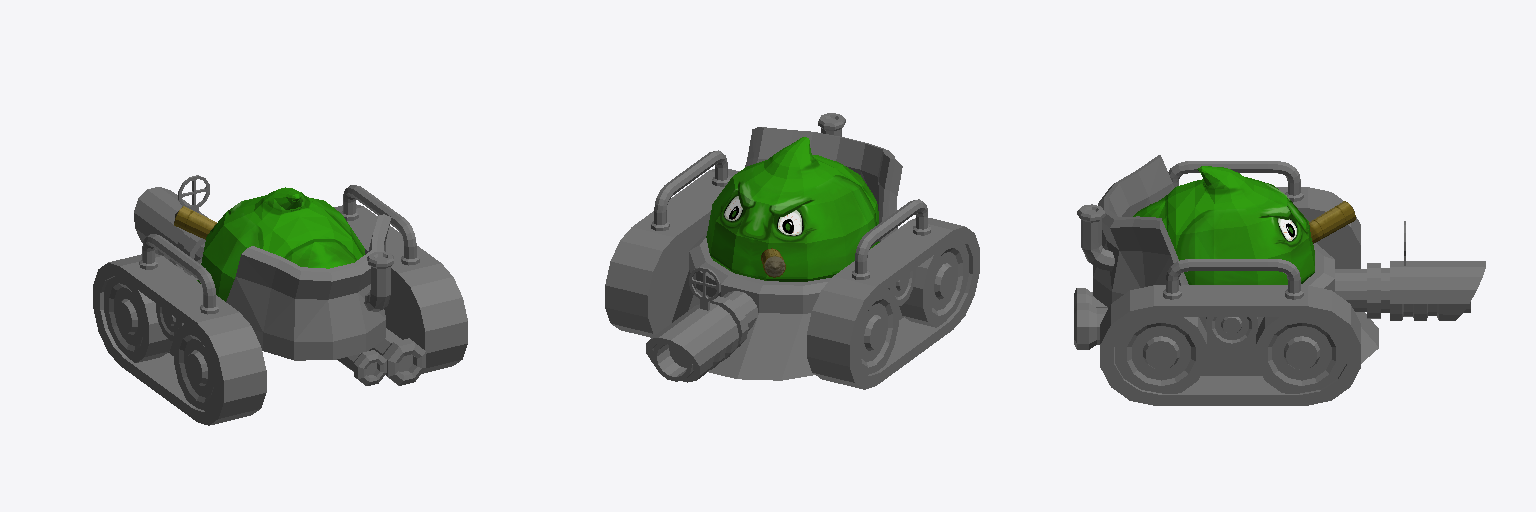
3 views of the same model, side by side, from view 1: azimuth 30°, elevation 25°; view 2: azimuth 150°, elevation 25°; view 3: azimuth 270°, elevation 25° (orthographic).
Parts seen in each view (by area): view 1: polySurface377; view 2: polySurface377; view 3: polySurface377.
Boxes of the visible parts, x1=… form: polySurface377: x1=93, y1=175, x2=467, y2=425; polySurface377: x1=605, y1=113, x2=979, y2=389; polySurface377: x1=1074, y1=155, x2=1485, y2=405.
Bounding box in the file's own units: 4.6 × 3.24 × 6.72.
2 materials, 1 textured.